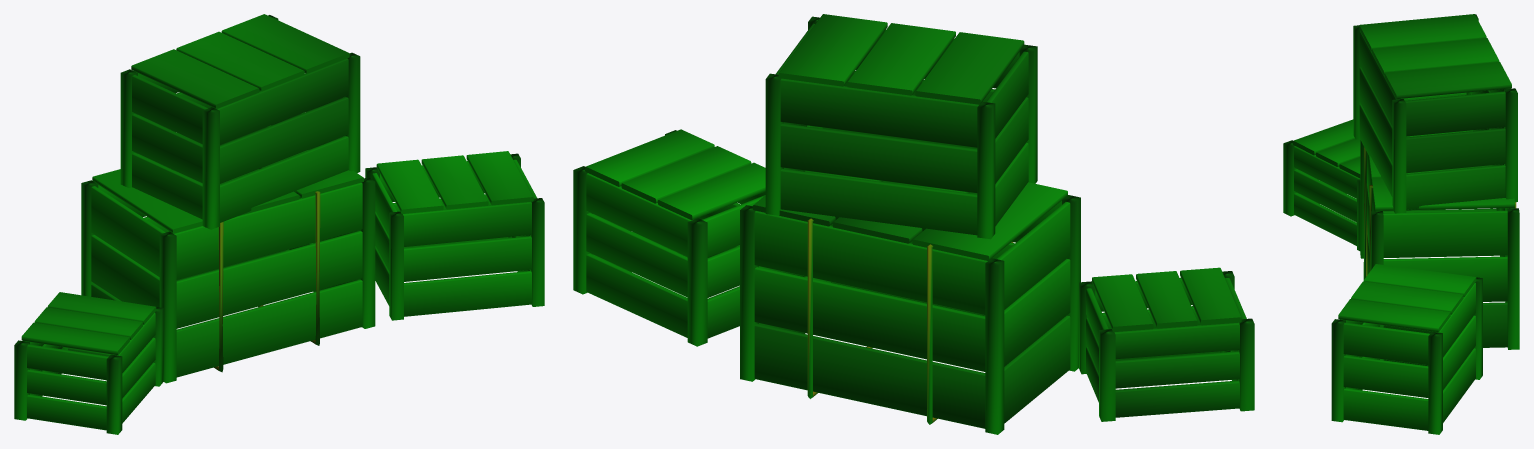
The model's file is crate_stack.glb.
The picture shows the model from 3 angles, left to right: view 1: azimuth 30°, elevation 25°; view 2: azimuth 150°, elevation 25°; view 3: azimuth 270°, elevation 25°; orthographic projection. The views are drawn at different scales.
Visible parts, largest first — view 1: crate_stack; view 2: crate_stack; view 3: crate_stack.
Part boxes in pixels (box(x1,y1,x2,y2)): crate_stack: box(14, 14, 544, 434); crate_stack: box(573, 14, 1254, 434); crate_stack: box(1283, 14, 1519, 434).
Size of what is drawn, in the model's own units: 2.73 by 1.3 by 1.09.
